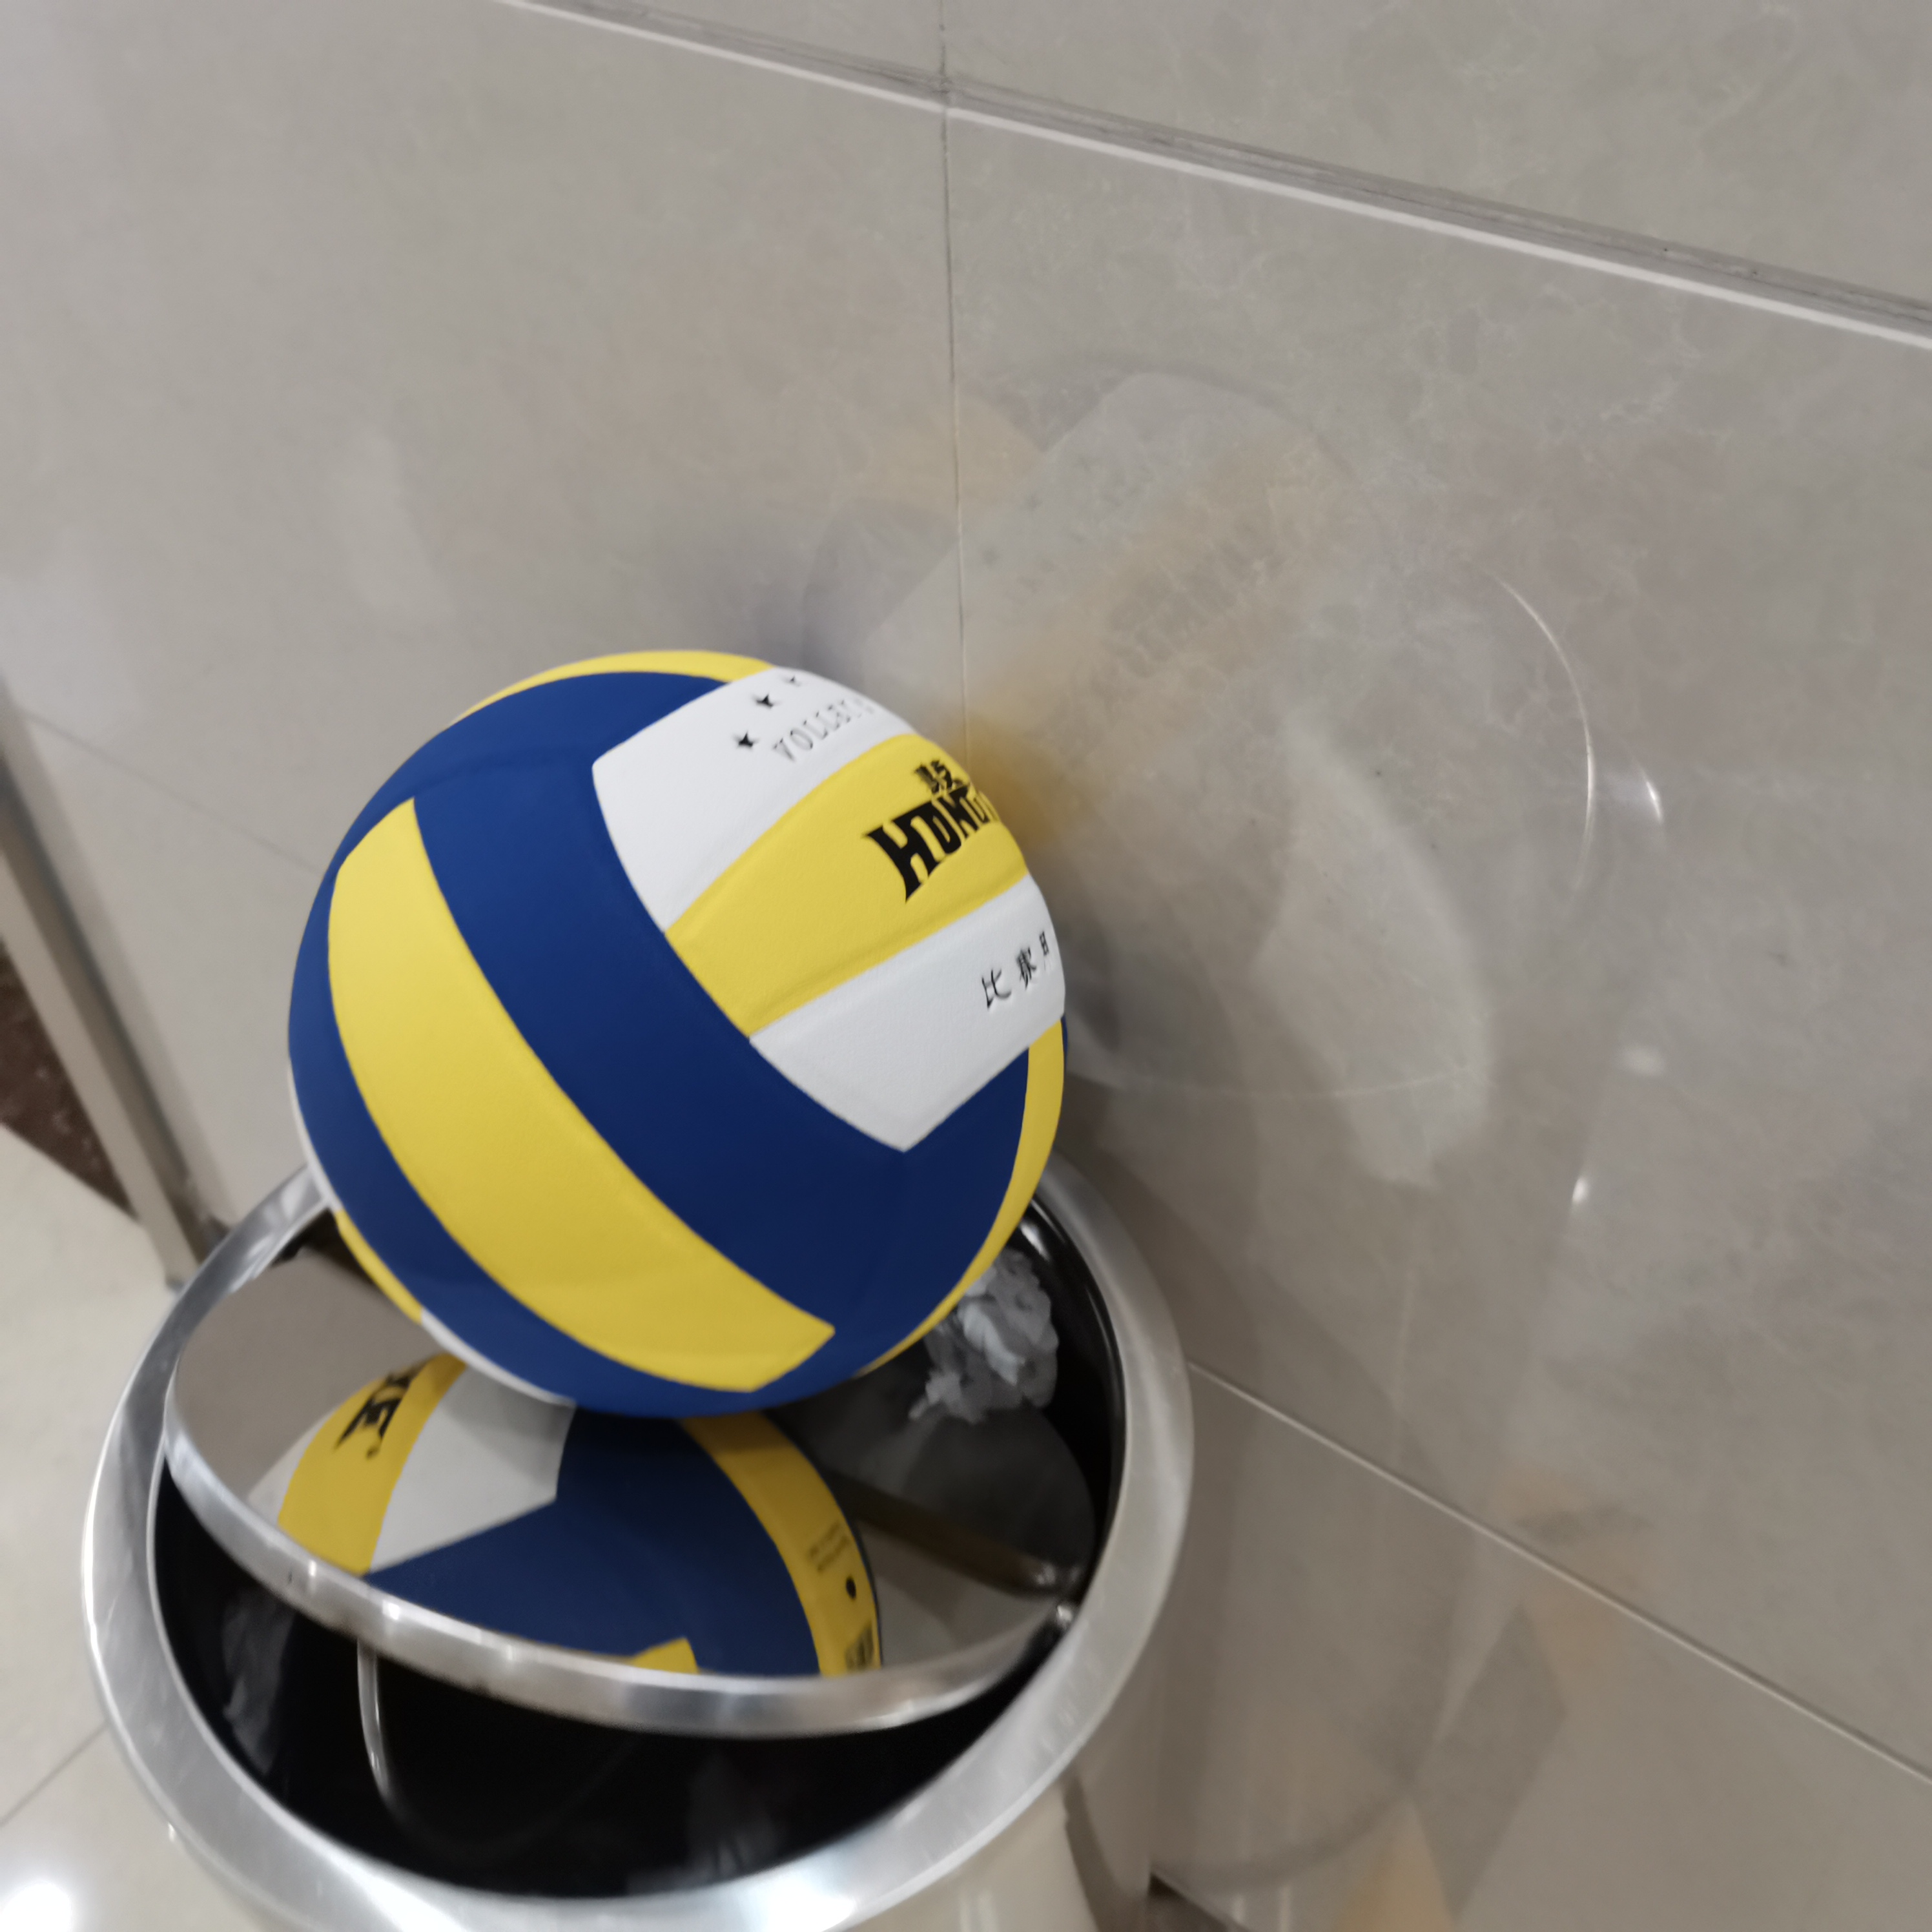volleyball: (290, 644, 1072, 1438)
